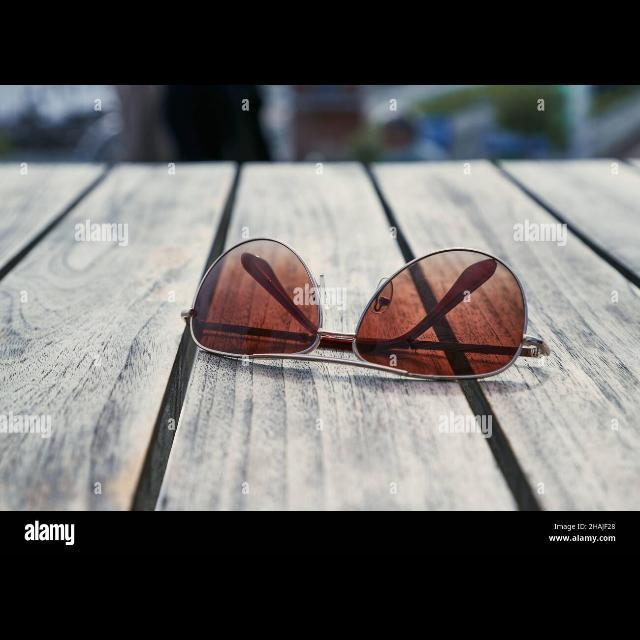glasses: (180, 234, 552, 380)
